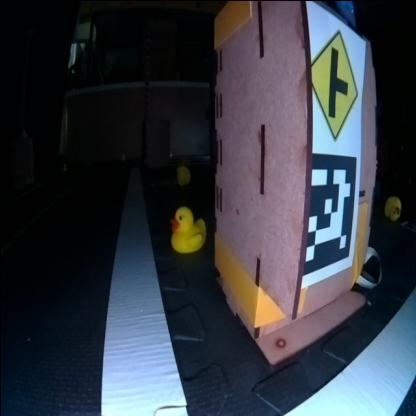Duckie: (169, 206, 204, 250), (383, 196, 400, 218), (175, 164, 189, 182)
Intersection sign: (309, 22, 363, 141)
QR code: (302, 156, 356, 278)
